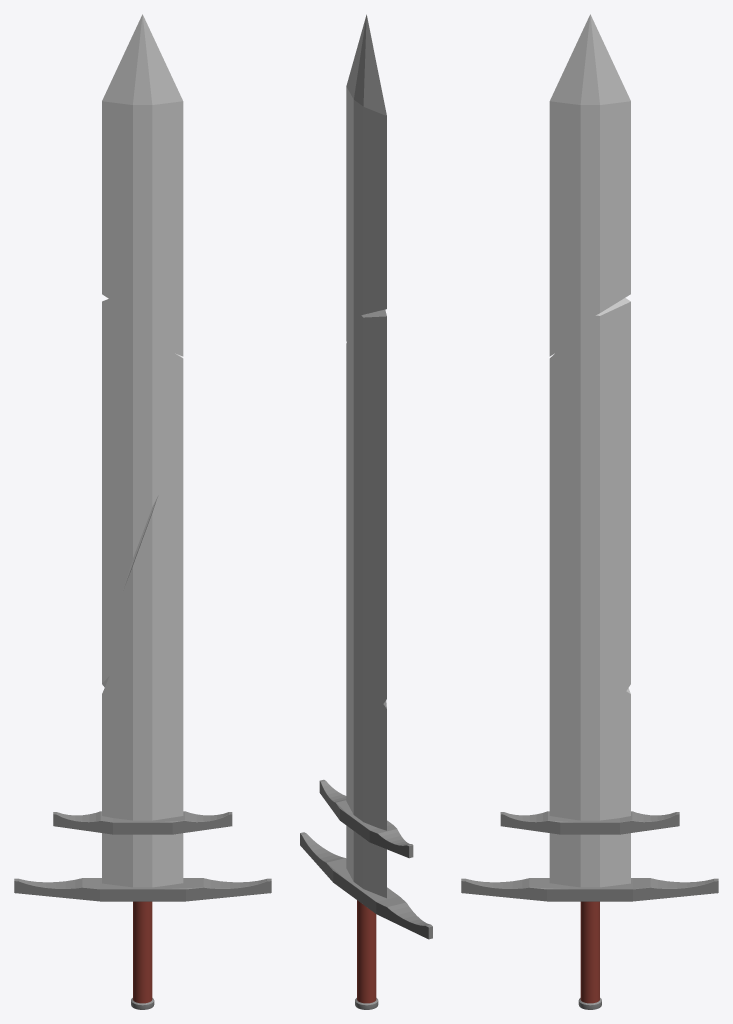
Rendered from greatsword.fbx.
3 views of the same model, side by side, from view 1: azimuth 90°, elevation 25°; view 2: azimuth 210°, elevation 25°; view 3: azimuth 270°, elevation 25° (orthographic).
Visible parts, largest first — view 1: Cube.001, Cube.002, Cube.003, Cylinder; view 2: Cube.001, Cube.002, Cylinder, Cube.003; view 3: Cube.001, Cube.002, Cube.003, Cylinder.
Part boxes in pixels (x1=…): Cube.001: x1=102, y1=14, x2=183, y2=887; Cube.002: x1=14, y1=878, x2=271, y2=901; Cube.003: x1=53, y1=811, x2=232, y2=834; Cylinder: x1=131, y1=901, x2=154, y2=1009; Cube.001: x1=346, y1=14, x2=386, y2=898; Cube.002: x1=300, y1=832, x2=432, y2=939; Cylinder: x1=355, y1=900, x2=378, y2=1009; Cube.003: x1=319, y1=779, x2=413, y2=858; Cube.001: x1=549, y1=14, x2=630, y2=887; Cube.002: x1=461, y1=878, x2=718, y2=901; Cube.003: x1=500, y1=811, x2=679, y2=834; Cylinder: x1=578, y1=901, x2=601, y2=1009.
Size of the model in its own units: 3.52 by 142 by 33.46.
